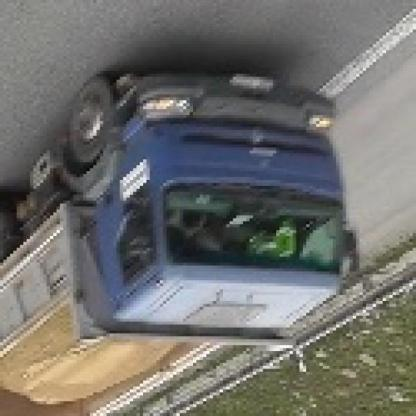truck: (1, 68, 354, 416)
